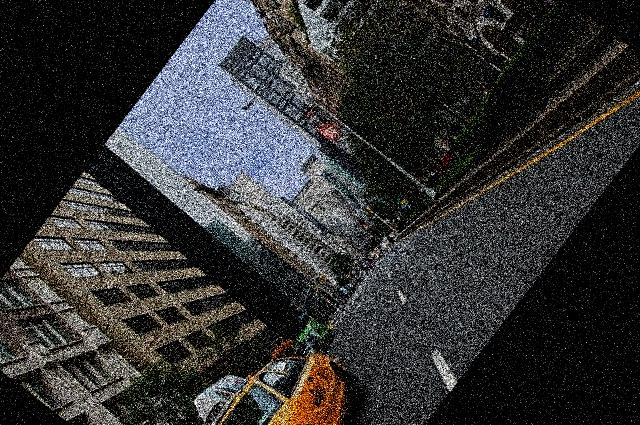taxi: (196, 348, 362, 425)
